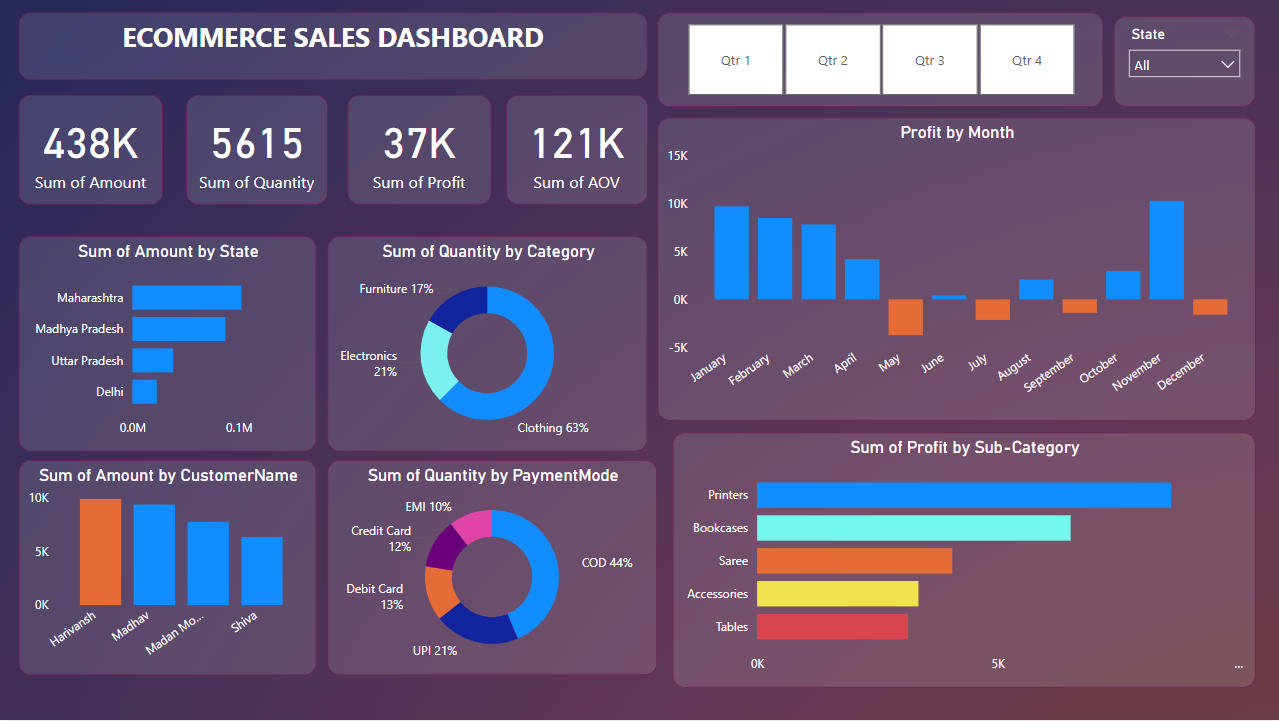

Layout of this report page (visuals, bound fields, positions):
{"tool":"powerbi","page":{"name":"Page 1","canvas":[1280,720],"ordinal":0},"visuals":[{"type":"textbox","box":[19.2,12.3,628.5,67.2],"z":0},{"type":"columnChart","title":"Profit by Month","fields":{"Category":["Orders.Order Date.Variation.Date Hierarchy.Month"],"Y":["Details.Profit"]},"box":[657.3,118,598.3,303.3],"z":1},{"type":"barChart","fields":{"Category":["Details.Sub-Category"],"Y":["Details.Profit"]},"box":[672.4,432.2,583.2,255.2],"z":2},{"type":"donutChart","fields":{"Category":["Details.PaymentMode","Details.Category"],"Y":["Details.Quantity"]},"box":[327.4,459.5,329.8,215.5],"z":3},{"type":"donutChart","fields":{"Category":["Details.Category"],"Y":["Details.Quantity"]},"box":[327.4,235.7,320.2,215.5],"z":4},{"type":"card","fields":{"Values":["Details.Amount"]},"box":[19.2,94.7,144.1,109.8],"z":5},{"type":"card","fields":{"Values":["Details.Quantity"]},"box":[186.6,94.7,141.3,109.8],"z":6},{"type":"card","fields":{"Values":["Details.Profit"]},"box":[347.2,94.7,144.1,109.8],"z":7},{"type":"card","fields":{"Values":["Details.AOV"]},"box":[506.3,94.7,141.3,109.8],"z":8},{"type":"barChart","fields":{"Category":["Orders.State"],"Y":["Details.Amount"]},"box":[19,235.7,297.6,215.5],"z":9},{"type":"columnChart","fields":{"Category":["Orders.CustomerName"],"Y":["Details.Amount"]},"box":[19,459.5,297.6,215.5],"z":10},{"type":"slicer","fields":{"Values":["Orders.Order Date.Variation.Date Hierarchy.Quarter"]},"box":[657.3,12.3,446,94.7],"z":11},{"type":"slicer","fields":{"Values":["Orders.State"]},"box":[1114.2,16.5,141.3,90.6],"z":12}]}

Visuals, with their boxes in screenshot pixels (x1, y1, x2, y2), scaled from the page's 1280x720 canvas onto the 1279x721 screenshot:
textbox: [x1=19, y1=12, x2=647, y2=80]
"Profit by Month" columnChart: [x1=657, y1=118, x2=1255, y2=422]
barChart - Details.Sub-Category x Details.Profit: [x1=672, y1=433, x2=1255, y2=688]
donutChart - Details.PaymentMode x Details.Category: [x1=327, y1=460, x2=657, y2=676]
donutChart - Details.Category x Details.Quantity: [x1=327, y1=236, x2=647, y2=452]
card - Details.Amount: [x1=19, y1=95, x2=163, y2=205]
card - Details.Quantity: [x1=186, y1=95, x2=328, y2=205]
card - Details.Profit: [x1=347, y1=95, x2=491, y2=205]
card - Details.AOV: [x1=506, y1=95, x2=647, y2=205]
barChart - Orders.State x Details.Amount: [x1=19, y1=236, x2=316, y2=452]
columnChart - Orders.CustomerName x Details.Amount: [x1=19, y1=460, x2=316, y2=676]
slicer - Orders.Order Date.Variation.Date Hierarchy.Quarter: [x1=657, y1=12, x2=1102, y2=107]
slicer - Orders.State: [x1=1113, y1=17, x2=1255, y2=107]
